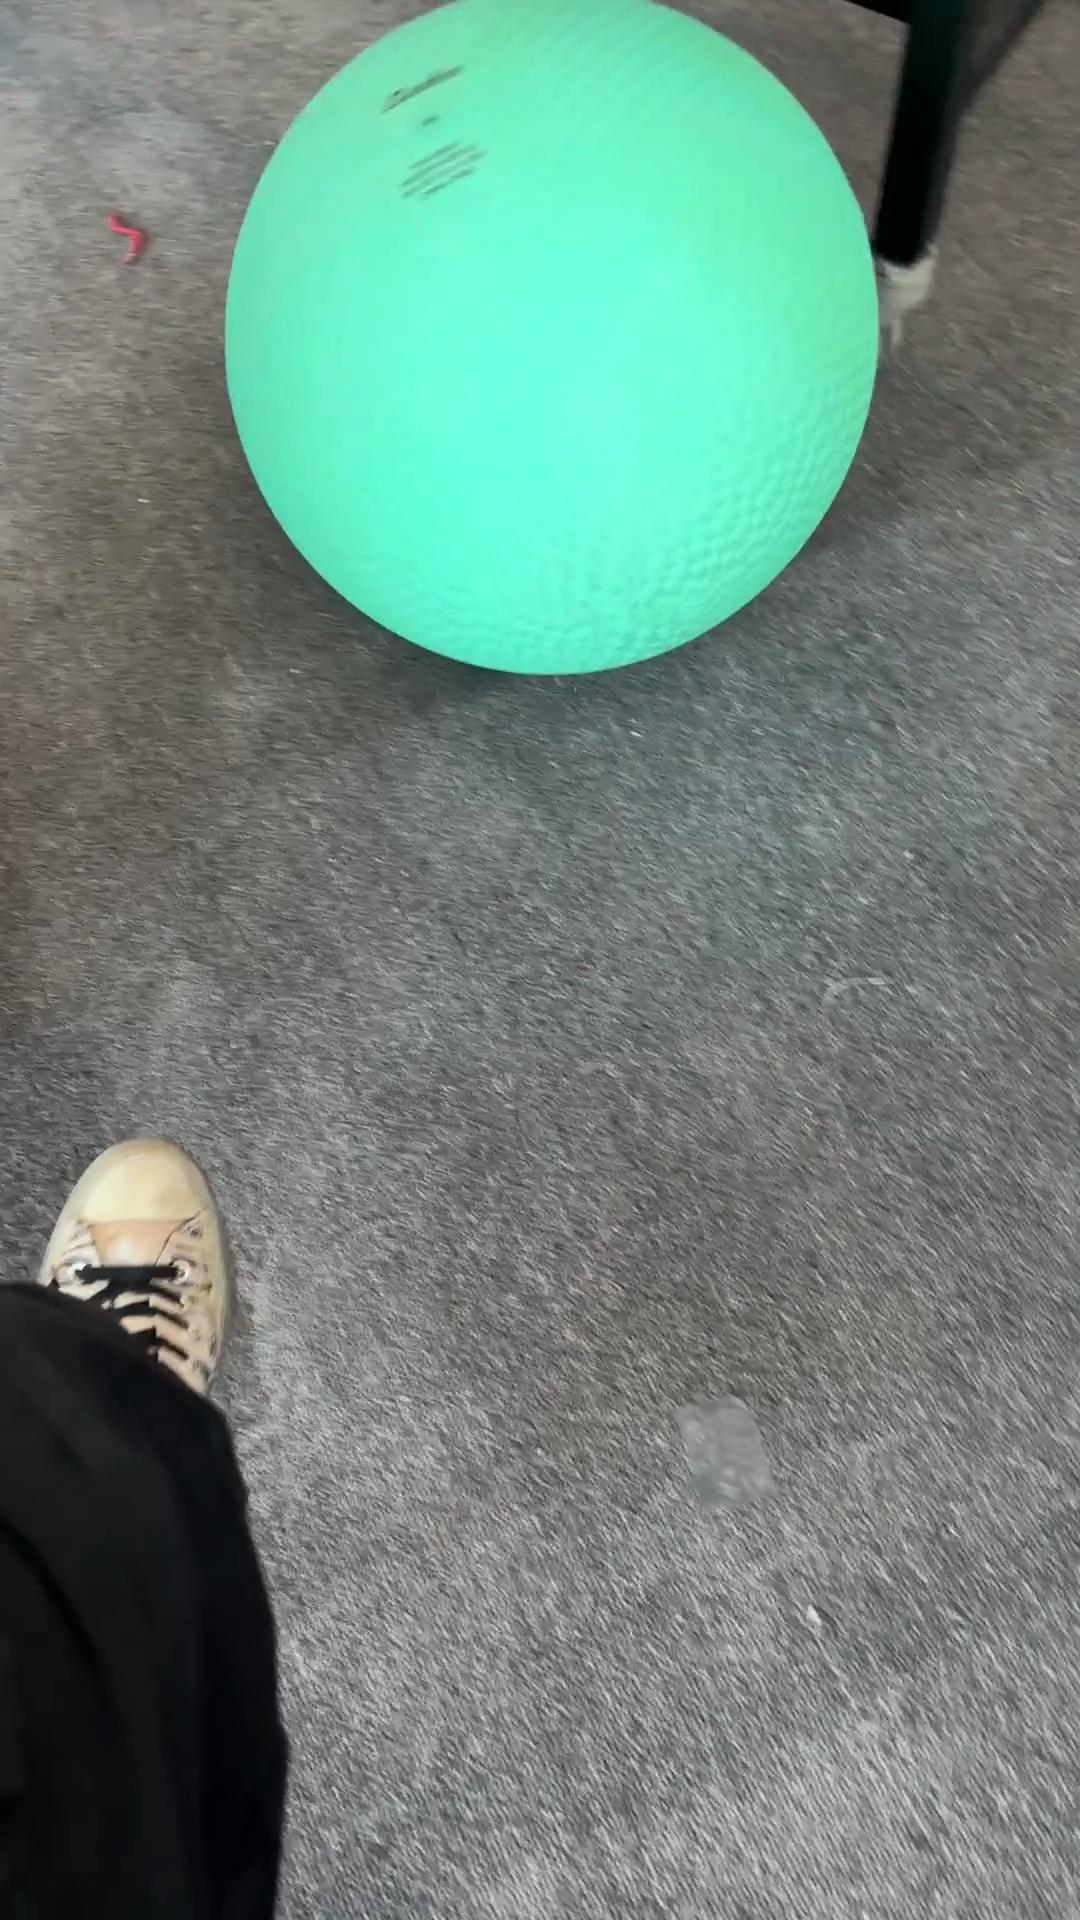ALGAE: (222, 1, 882, 676)
